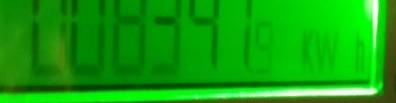.: (296, 30, 371, 78)
1: (25, 0, 71, 80), (69, 0, 108, 79)
2: (239, 0, 256, 69)
4: (151, 0, 184, 75)
5: (186, 0, 225, 69)
9: (110, 0, 150, 72)
:: (253, 22, 276, 75)
